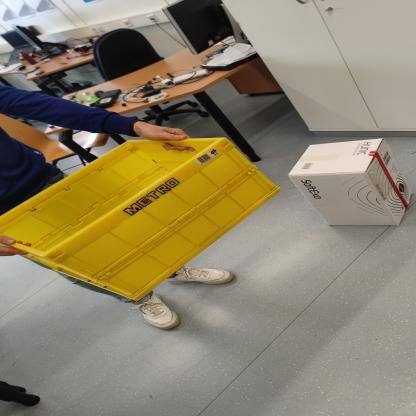box: (2, 129, 280, 302), (281, 136, 416, 244)
